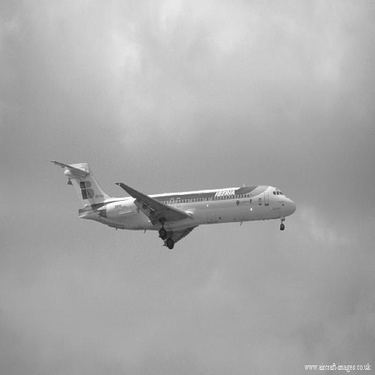airplane: (25, 142, 306, 261)
